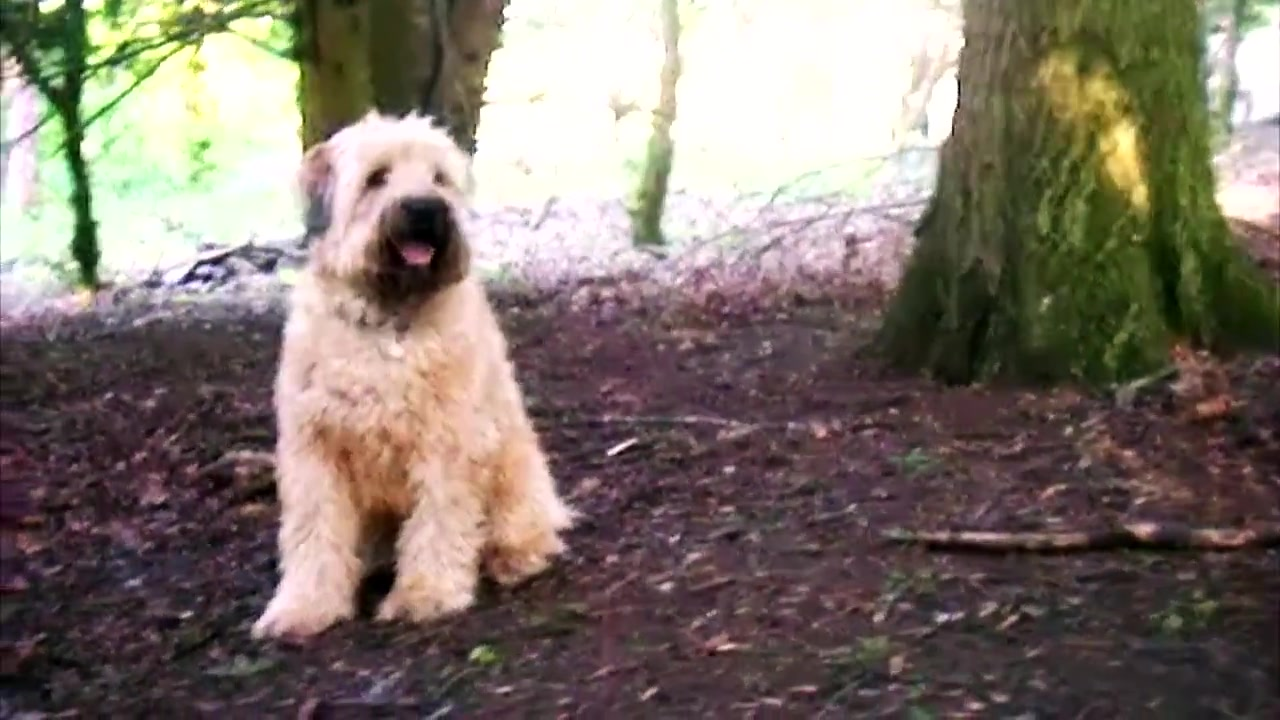dog: (251, 115, 572, 644)
